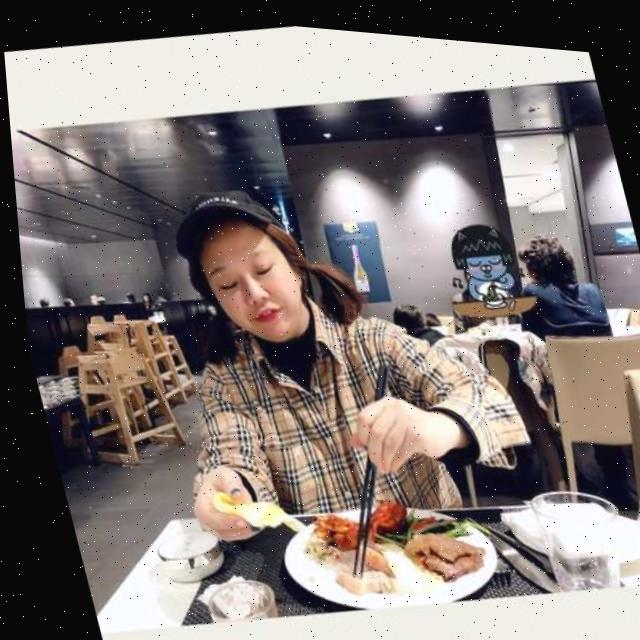eating-person: (63, 127, 569, 640)
